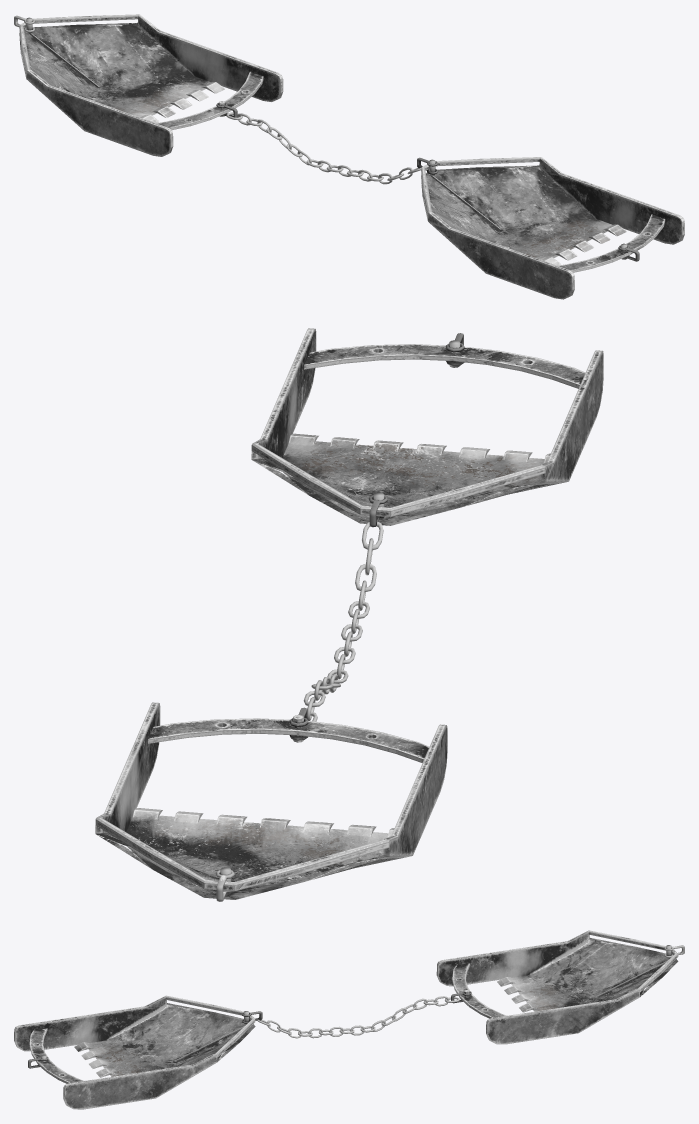
The model's file is Scraper.fbx.
3 views of the same model, one above another, from view 1: azimuth 30°, elevation 25°; view 2: azimuth 150°, elevation 25°; view 3: azimuth 270°, elevation 25° (orthographic). The views are drawn at different scales.
Parts seen in each view (by area): view 1: Scraper; view 2: Scraper; view 3: Scraper.
Part boxes in pixels (x1,y1,x2,y2): Scraper: (14,14,684,299); Scraper: (95,328,603,901); Scraper: (14,930,684,1109).
Bounding box in the file's own units: 220 × 28.69 × 422.
